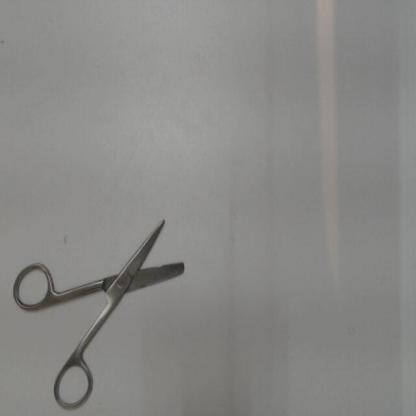Dressing Scissors: (8, 208, 200, 414)
